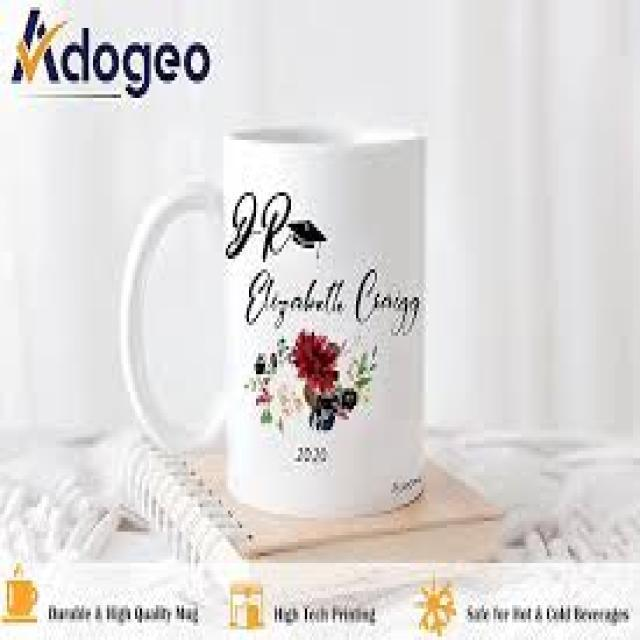taza: (112, 117, 440, 527)
